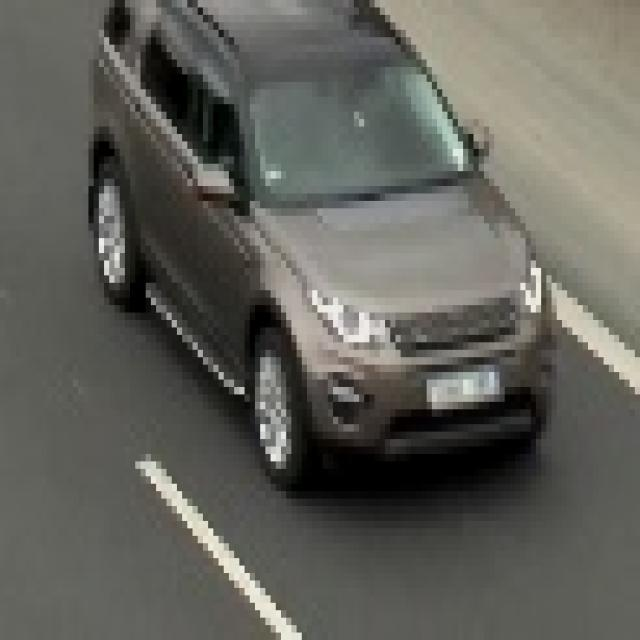SUV: (118, 0, 540, 454)
